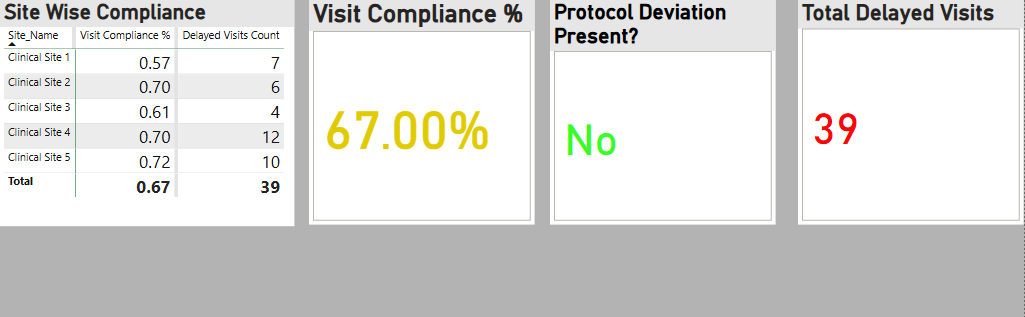

This screenshot's page, from the dashboard's own definition file:
{"tool":"powerbi","page":{"name":"advanced monitoring","canvas":[1280,720],"ordinal":1},"visuals":[{"type":"pivotTable","title":"Site Wise Compliance","fields":{"Values":["visits_clean.Visit Compliance %","visits_clean.Delayed Visits Count"],"Rows":["sites_clean.Site_Name"]},"box":[0,0,367.9,283.9],"z":3000},{"type":"cardVisual","title":"Visit Compliance %","fields":{"Data":["visits_clean.Visit Compliance %"]},"box":[386.4,0,282.2,282.2],"z":3500},{"type":"cardVisual","title":"Total Delayed Visits","fields":{"Data":["visits_clean.Delayed Visits Count"]},"box":[997.8,0,282.2,282.2],"z":4000},{"type":"cardVisual","title":"Protocol Deviation Present?","fields":{"Data":["Min(visits_clean.Protocol_Deviation)"]},"box":[687,0,282.2,282.2],"z":4500}]}

Visuals, with their boxes on the page's 1280x720 design canvas (x1, y1, x2, y2). These are canvas units, not pixel positions in the 1025x317 screenshot, which may show the page scaled, cropped or inside an application window:
"Site Wise Compliance" pivotTable: bbox=[0, 0, 368, 284]
"Visit Compliance %" cardVisual: bbox=[386, 0, 669, 282]
"Total Delayed Visits" cardVisual: bbox=[998, 0, 1280, 282]
"Protocol Deviation Present?" cardVisual: bbox=[687, 0, 969, 282]
